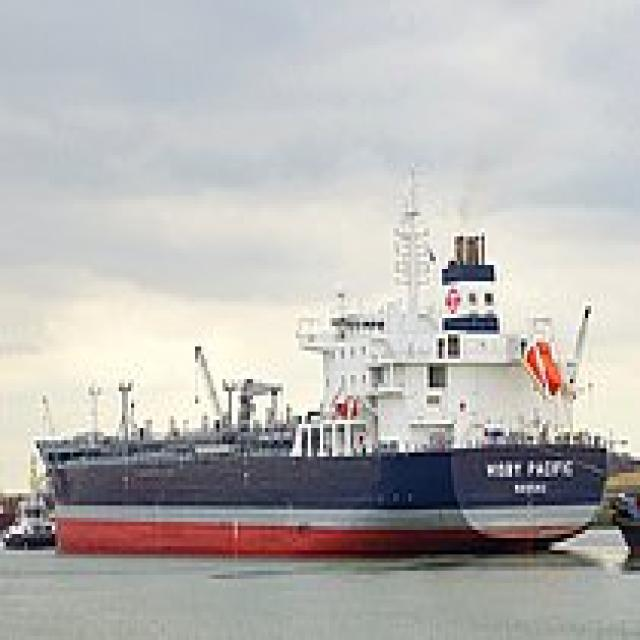Tanker: (28, 159, 606, 550)
